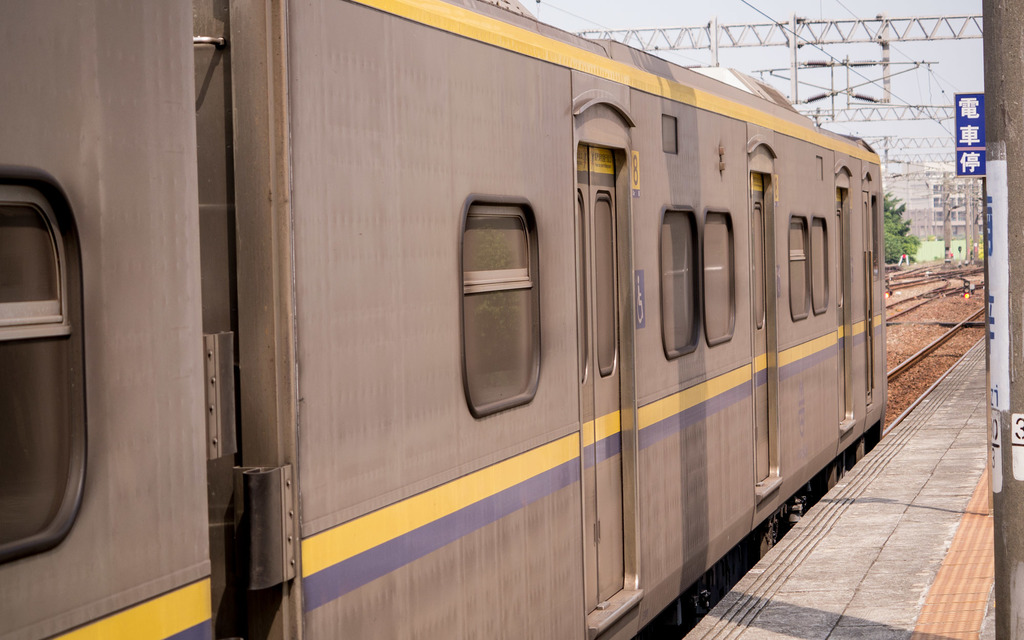train: (0, 1, 888, 639)
